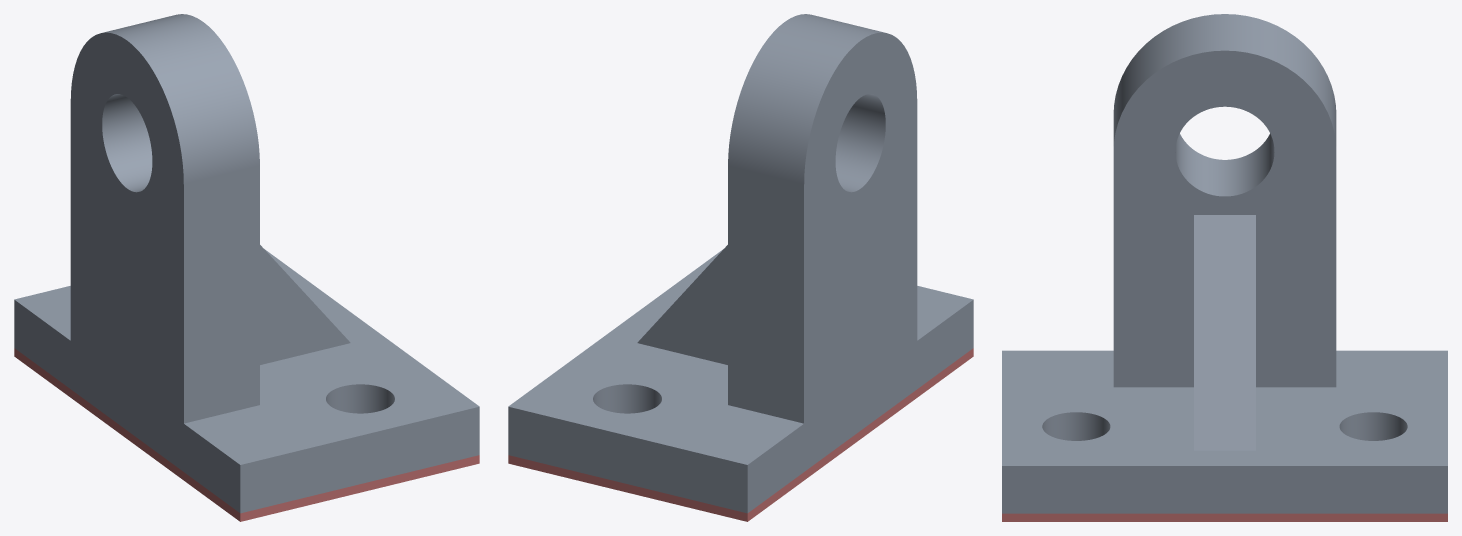
File: step_09.glb
3 views of the same model, side by side, from view 1: azimuth 30°, elevation 25°; view 2: azimuth 150°, elevation 25°; view 3: azimuth 270°, elevation 25° (orthographic).
Parts seen in each view (by area): view 1: part__bracket (right), removed__bracket (right); view 2: part__bracket (right), removed__bracket (right); view 3: part__bracket (right), removed__bracket (right).
Part boxes in pixels (x1,y1,x2,y2): part__bracket (right): (14, 14, 479, 513); removed__bracket (right): (14, 348, 479, 521); part__bracket (right): (508, 14, 973, 513); removed__bracket (right): (508, 348, 973, 521); part__bracket (right): (1002, 14, 1447, 513); removed__bracket (right): (1002, 513, 1447, 521).
Bounding box in the file's own units: 44 × 70 × 72.
